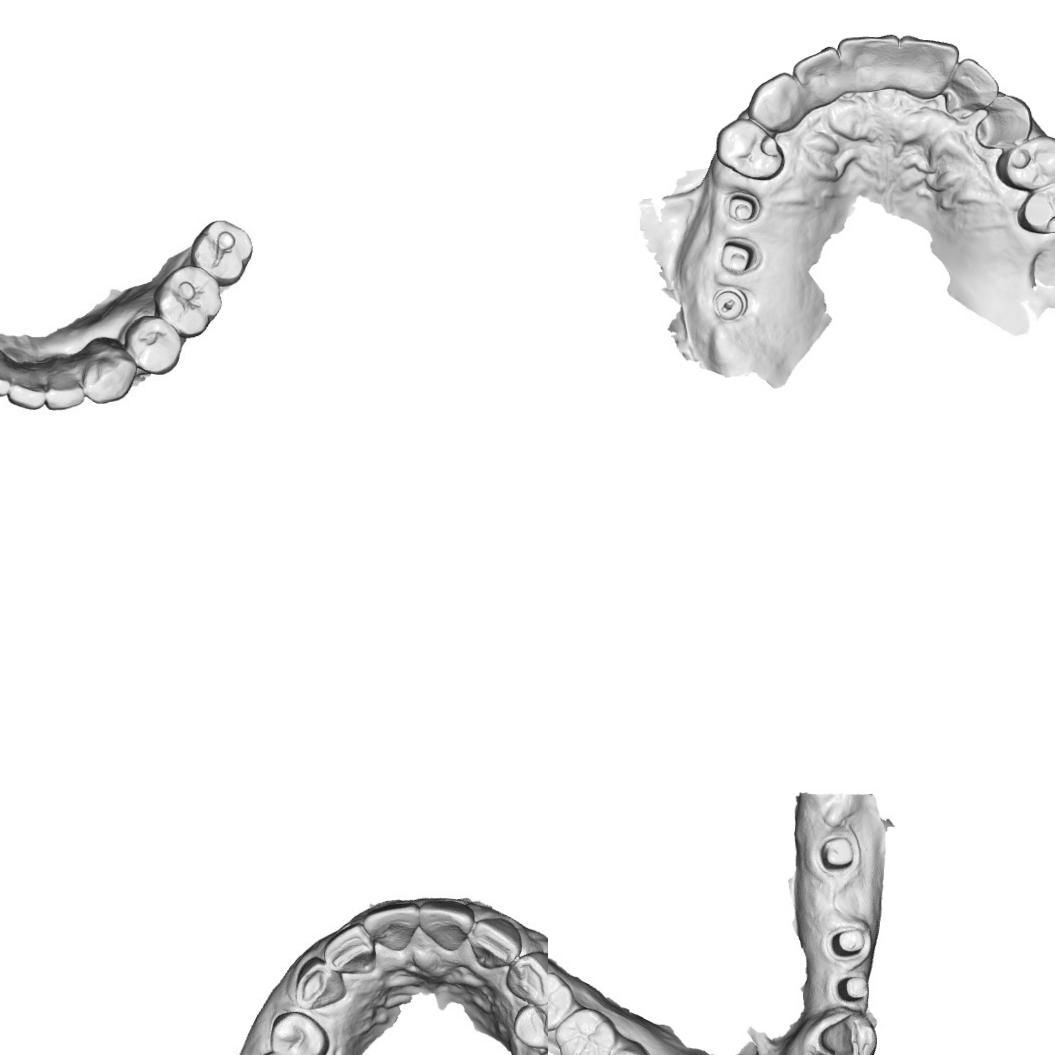abutment: (824, 920, 871, 964), (816, 832, 858, 874), (718, 238, 760, 276), (834, 972, 874, 1009), (724, 190, 761, 226)
canine: (81, 338, 138, 410), (746, 70, 805, 134), (974, 94, 1034, 150), (289, 957, 344, 1012), (816, 1010, 880, 1055), (504, 951, 548, 1005)
implant_minus: (708, 285, 748, 322)
incisor: (899, 33, 960, 100), (837, 33, 900, 94), (943, 56, 1000, 119), (792, 46, 842, 106), (422, 899, 474, 952), (468, 917, 516, 972), (368, 906, 420, 952), (7, 358, 51, 410), (331, 926, 373, 977), (44, 361, 83, 414), (0, 354, 12, 403)
molar: (164, 269, 228, 330), (199, 216, 255, 278), (552, 1005, 618, 1055), (548, 969, 575, 1033)
premolar: (714, 116, 786, 182), (122, 314, 184, 374), (994, 132, 1055, 191), (272, 1012, 328, 1055), (1016, 176, 1055, 236), (506, 997, 548, 1050)
